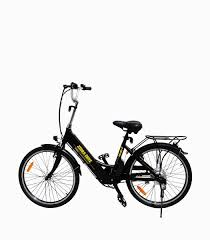bicycle: (8, 74, 201, 229)
